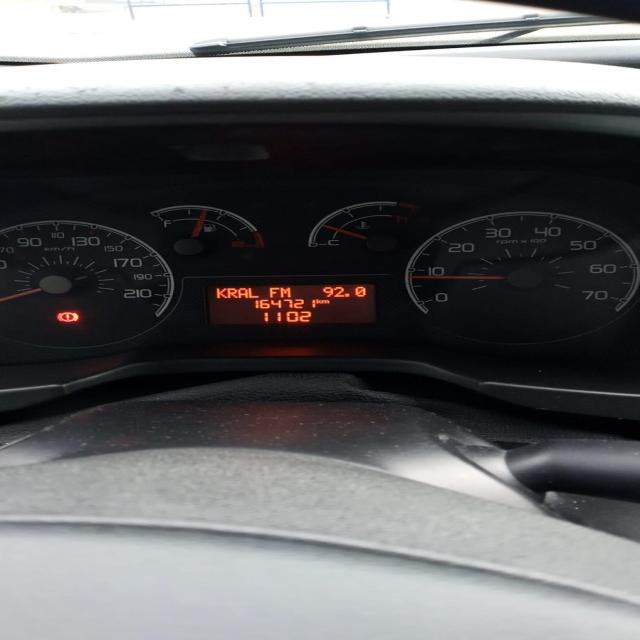odometer: (210, 284, 376, 323)
